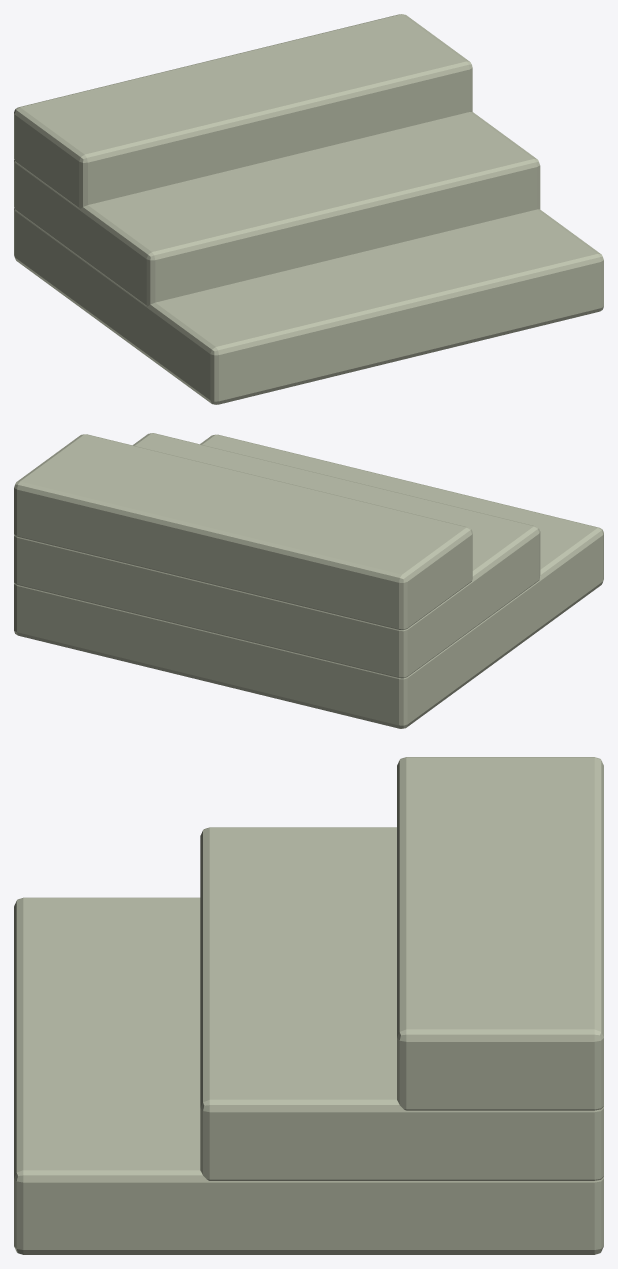
File: attachment_steps_040__attachments.glb
3 renders of one model, top to bottom at view 1: azimuth 30°, elevation 25°; view 2: azimuth 150°, elevation 25°; view 3: azimuth 270°, elevation 25°, orthographic. The views are drawn at different scales.
Visible parts, largest first — view 1: attachment_steps_040__attachments__mesh_00; view 2: attachment_steps_040__attachments__mesh_00; view 3: attachment_steps_040__attachments__mesh_00.
Part boxes in pixels (x1,y1,x2,y2): attachment_steps_040__attachments__mesh_00: (14,14,603,404); attachment_steps_040__attachments__mesh_00: (14,433,603,728); attachment_steps_040__attachments__mesh_00: (14,757,603,1254).
Size of the model in its own units: 1.28 by 0.48 by 1.14.
